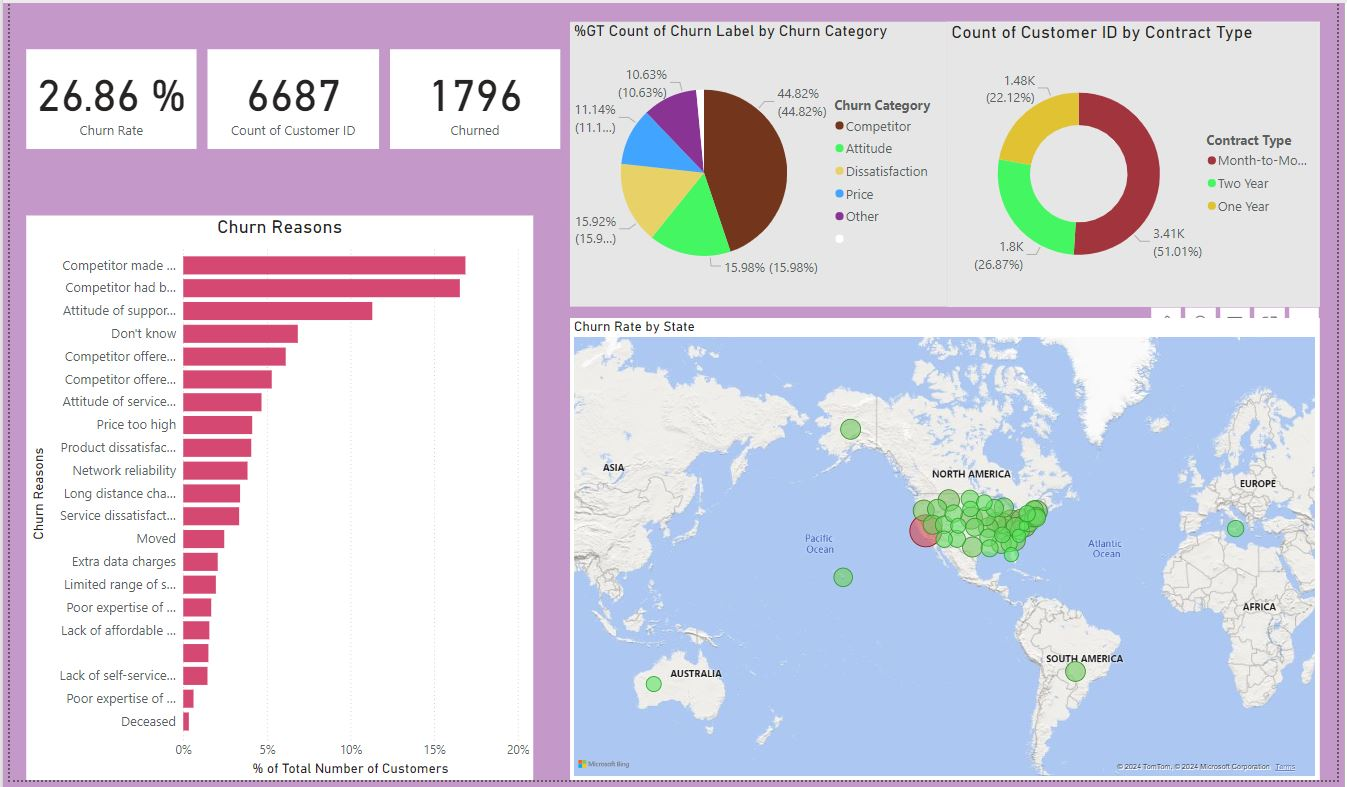

This screenshot's page, from the dashboard's own definition file:
{"tool":"powerbi","page":{"name":"Overview","canvas":[1640,960],"ordinal":5},"visuals":[{"type":"card","fields":{"Values":["Databel - Data.Churn Rate"]},"box":[20.2,57.3,210.5,122.9],"z":0},{"type":"card","fields":{"Values":["Count(Databel - Data.Customer ID)"]},"box":[244.2,57.3,212.2,122.9],"z":1000},{"type":"card","fields":{"Values":["Sum(Databel - Data.Churned)"]},"box":[469.9,57.3,210.5,122.9],"z":2000},{"type":"clusteredBarChart","title":"Churn Reasons","fields":{"Category":["Databel - Data.Churn Reason"],"Y":["CountNonNull(Databel - Data.Number of Customers in Group)"]},"box":[20.2,262.7,626.5,697.2],"z":3000},{"type":"donutChart","fields":{"Y":["Count(Databel - Data.Customer ID)"],"Category":["Databel - Data.Contract Type"]},"box":[1158.7,23.6,459.8,352],"z":4000},{"type":"pieChart","fields":{"Category":["Databel - Data.Churn Category"],"Y":["CountNonNull(Databel - Data.Churn Label)"]},"box":[692.2,23.6,466.5,352],"z":5000},{"type":"map","fields":{"Category":["Databel - Data.State"],"Size":["Databel - Data.Churn Rate"]},"box":[692.2,389,926.3,570.9],"z":6000}]}

Visuals, with their boxes in screenshot pixels (x1, y1, x2, y2), scaled from the page's 1640x960 canvas onto the 1347x787 screenshot:
card - Databel - Data.Churn Rate: pyautogui.locateOnScreen(17, 47, 189, 148)
card - Count(Databel - Data.Customer ID): pyautogui.locateOnScreen(201, 47, 375, 148)
card - Sum(Databel - Data.Churned): pyautogui.locateOnScreen(386, 47, 559, 148)
"Churn Reasons" clusteredBarChart: pyautogui.locateOnScreen(17, 215, 531, 786)
donutChart - Count(Databel - Data.Customer ID) x Databel - Data.Contract Type: pyautogui.locateOnScreen(952, 19, 1329, 308)
pieChart - Databel - Data.Churn Category x CountNonNull(Databel - Data.Churn Label): pyautogui.locateOnScreen(569, 19, 952, 308)
map - Databel - Data.State x Databel - Data.Churn Rate: pyautogui.locateOnScreen(569, 319, 1329, 786)
